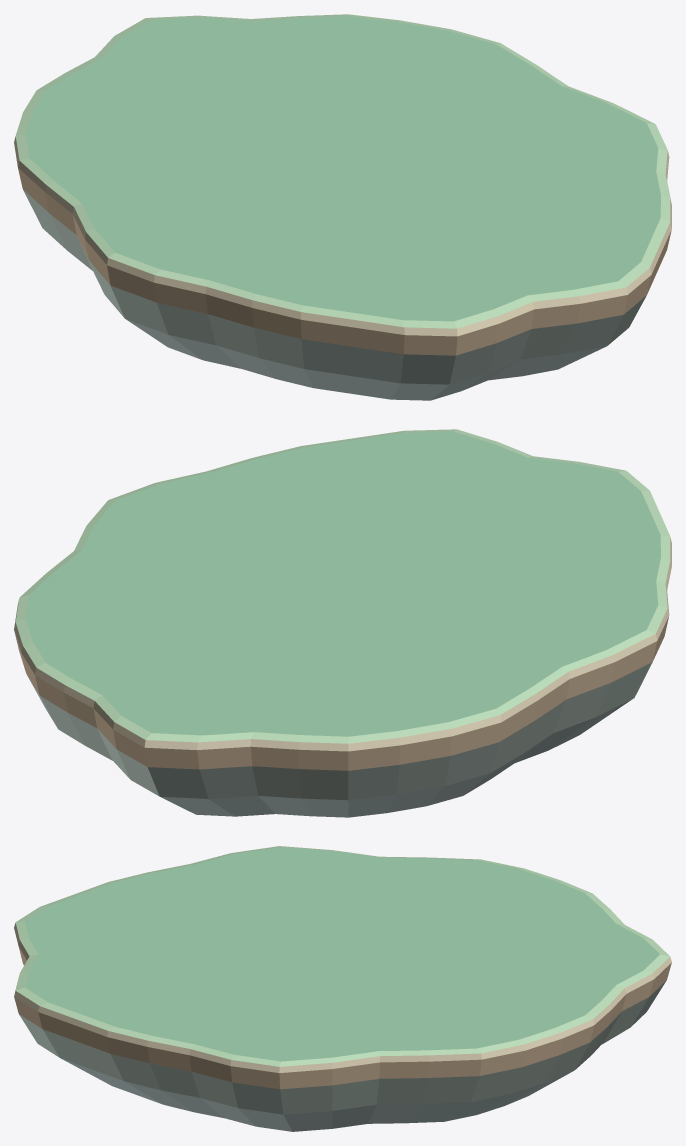
Rendered from Floating_garden_island.obj.
3 renders of one model, top to bottom at view 1: azimuth 30°, elevation 25°; view 2: azimuth 150°, elevation 25°; view 3: azimuth 270°, elevation 25°, orthographic. The views are drawn at different scales.
Parts seen in each view (by area): view 1: Soft_grass_floor, Carved_cliff_1, Carved_cliff_2, Carved_cliff_4, Carved_cliff_0, Carved_cliff_3; view 2: Soft_grass_floor, Carved_cliff_1, Carved_cliff_2, Carved_cliff_4, Carved_cliff_0, Carved_cliff_3; view 3: Soft_grass_floor, Carved_cliff_1, Carved_cliff_2, Carved_cliff_0, Carved_cliff_4, Carved_cliff_3.
Boxes of the visible parts, left/top/right/bottom form: Soft_grass_floor: left=25, top=16, right=660, bottom=321; Carved_cliff_1: left=23, top=190, right=646, bottom=384; Carved_cliff_2: left=18, top=168, right=671, bottom=355; Carved_cliff_4: left=15, top=14, right=670, bottom=328; Carved_cliff_0: left=126, top=319, right=606, bottom=400; Carved_cliff_3: left=14, top=136, right=671, bottom=336; Soft_grass_floor: left=25, top=431, right=660, bottom=736; Carved_cliff_1: left=28, top=662, right=652, bottom=800; Carved_cliff_2: left=14, top=616, right=668, bottom=770; Carved_cliff_4: left=15, top=429, right=670, bottom=743; Carved_cliff_0: left=90, top=698, right=633, bottom=817; Carved_cliff_3: left=14, top=537, right=671, bottom=751; Soft_grass_floor: left=25, top=847, right=659, bottom=1061; Carved_cliff_1: left=19, top=981, right=665, bottom=1114; Carved_cliff_2: left=14, top=946, right=671, bottom=1089; Carved_cliff_0: left=61, top=1029, right=627, bottom=1131; Carved_cliff_4: left=15, top=846, right=669, bottom=1066; Carved_cliff_3: left=14, top=923, right=671, bottom=1072.
Bounding box in the file's own units: 23.18 × 4.6 × 29.04.
